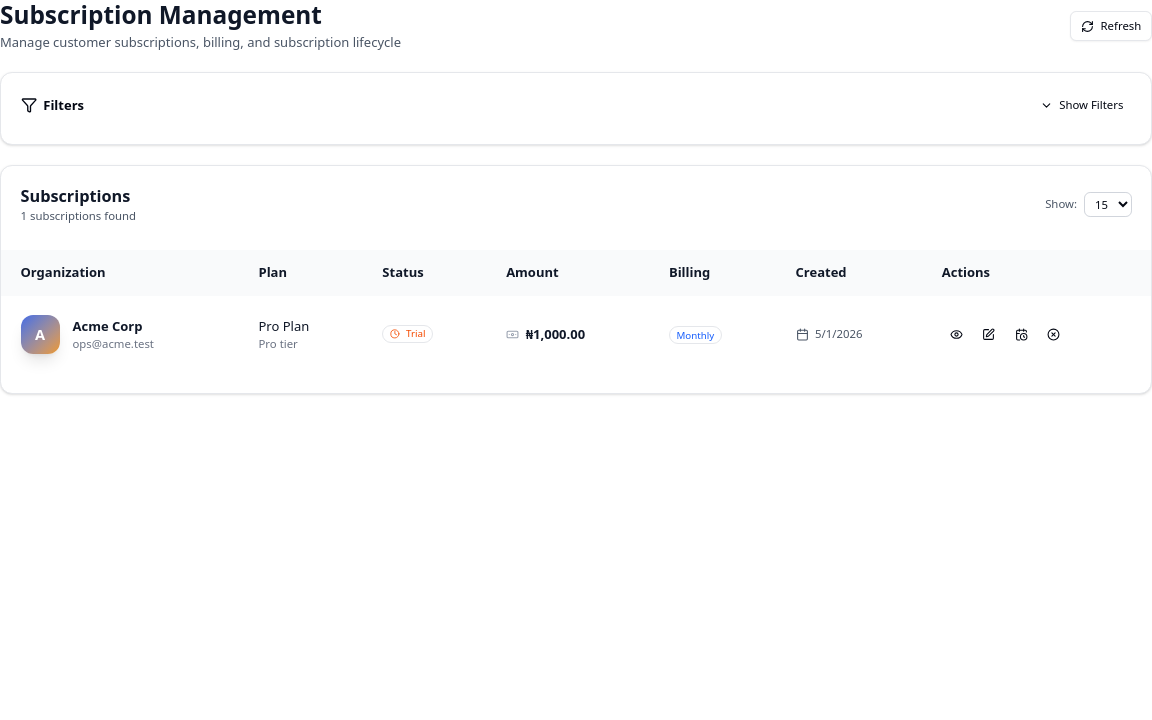
SubscriptionManagementPage – view & edit › opens the edit form when the Edit action is clicked (UAC-2)
The width and height of the screenshot is (1152, 720).
Click the button named "edit subscription" at coordinates (989, 334), box [974, 322, 1004, 348]
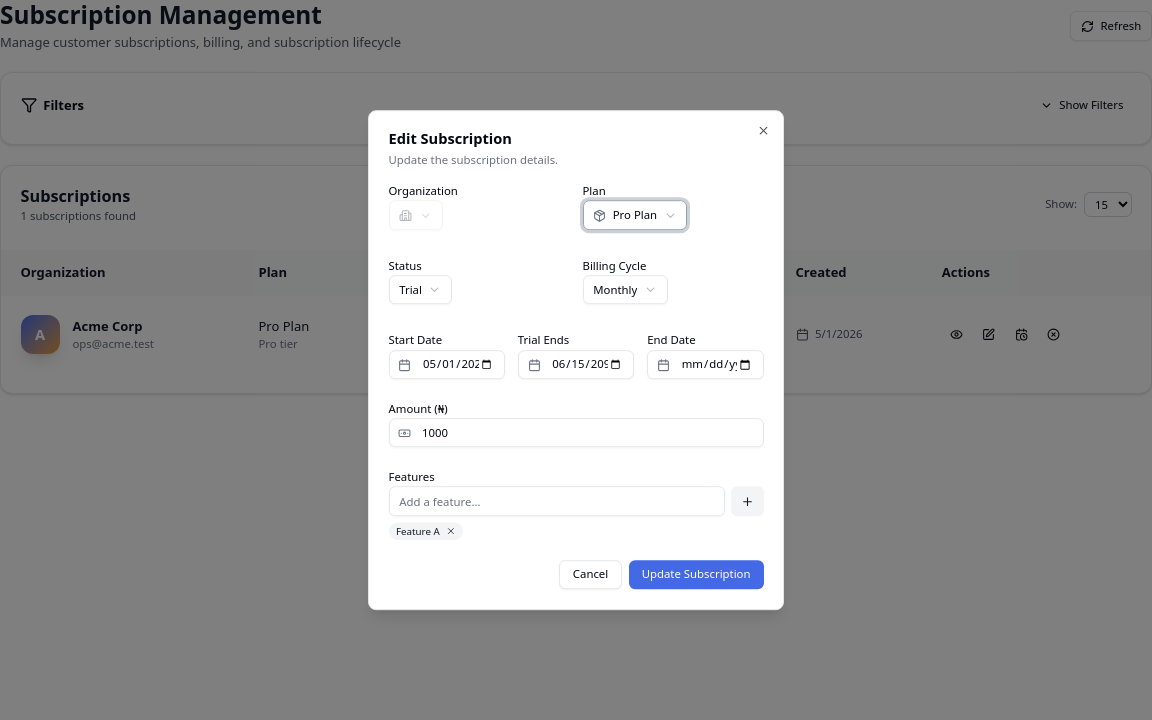
Expected: the heading "Edit Subscription" is shown, [388, 128, 512, 148]
